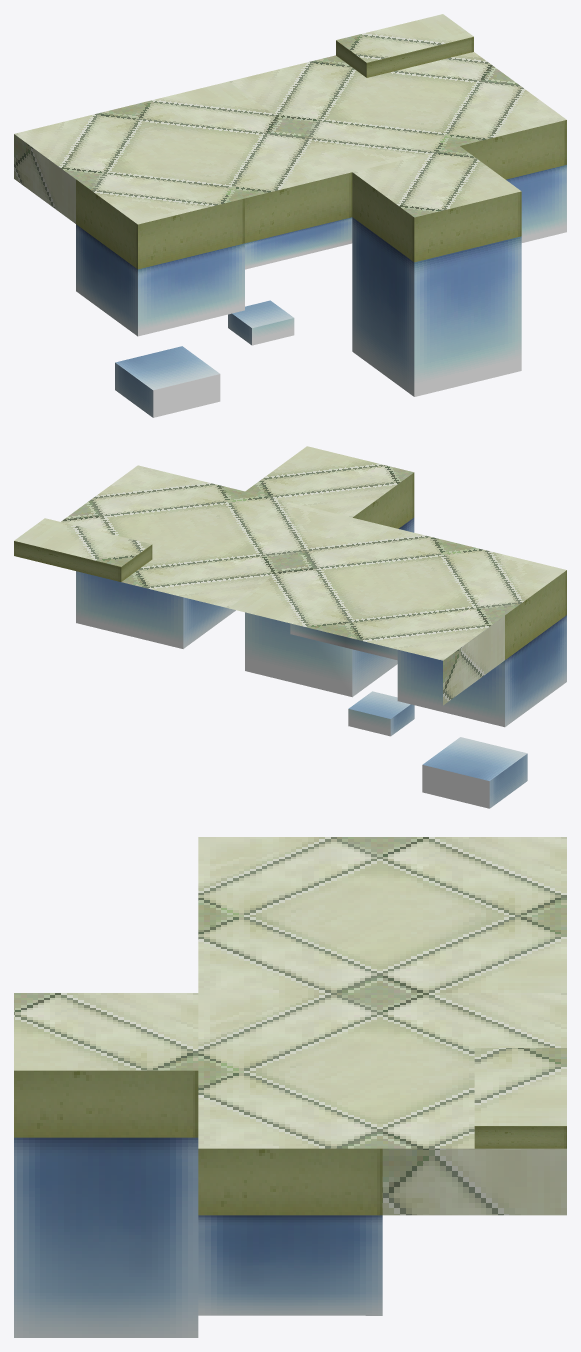
Rendered from a_ESDtoilet02.glb.
The picture shows the model from 3 angles, top to bottom: view 1: azimuth 30°, elevation 25°; view 2: azimuth 150°, elevation 25°; view 3: azimuth 270°, elevation 25°; orthographic projection. The views are drawn at different scales.
Parts seen in each view (by area): view 1: a_ESDtoilet02; view 2: a_ESDtoilet02; view 3: a_ESDtoilet02.
Part boxes in pixels (x1,y1,x2,y2): a_ESDtoilet02: (14, 14, 566, 417); a_ESDtoilet02: (14, 446, 566, 808); a_ESDtoilet02: (14, 837, 566, 1337).
Bounding box in the file's own units: 2 × 0.9977 × 1.5.
3 materials, 3 textured.
